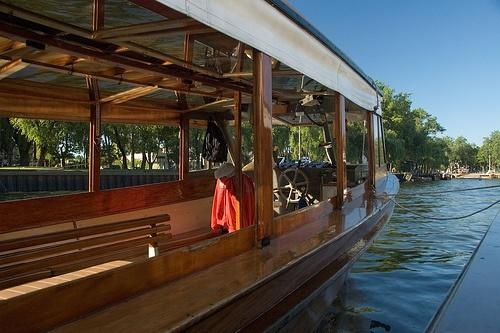boat: (1, 1, 401, 333)
